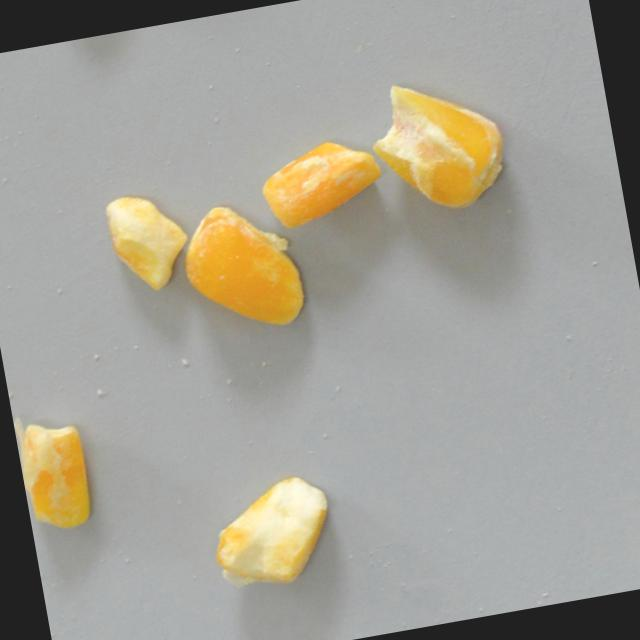dañado: (358, 64, 521, 228), (170, 189, 317, 343), (251, 129, 392, 237), (12, 402, 101, 535), (93, 184, 195, 300)
pelicula: (200, 464, 348, 598)
